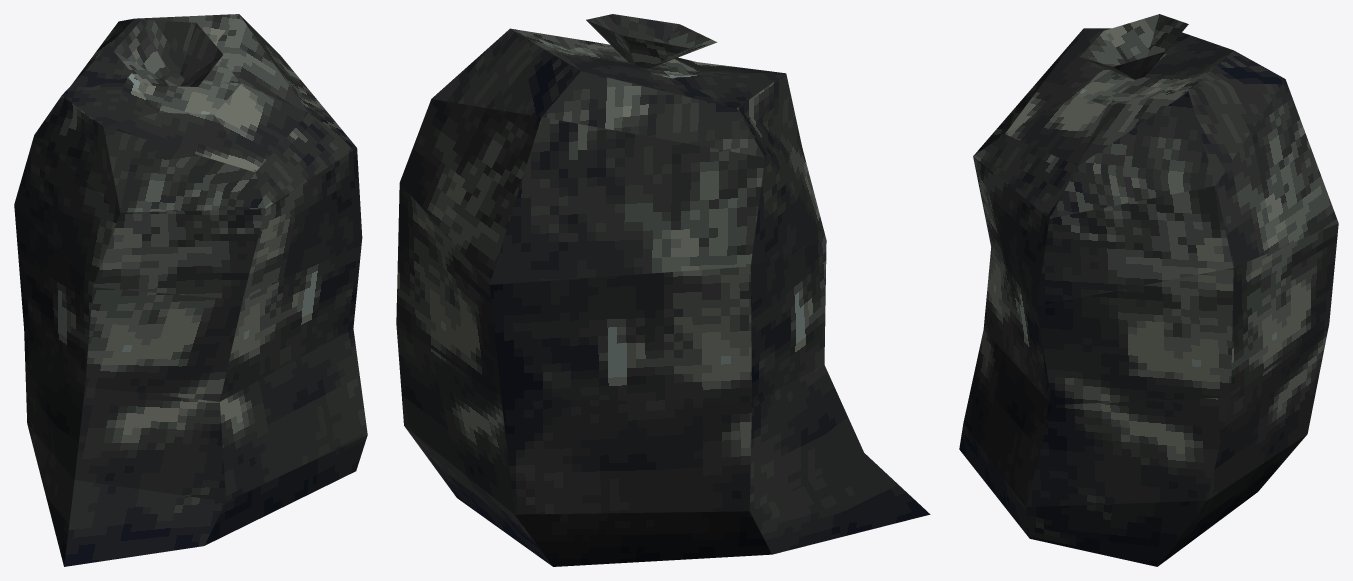
Rendered from trashbag_2.glb.
3 views of the same model, side by side, from view 1: azimuth 30°, elevation 25°; view 2: azimuth 150°, elevation 25°; view 3: azimuth 270°, elevation 25° (orthographic). The views are drawn at different scales.
Parts seen in each view (by area): view 1: trashbag_2; view 2: trashbag_2; view 3: trashbag_2.
Part boxes in pixels (x1,y1,x2,y2): trashbag_2: [14, 14, 367, 566]; trashbag_2: [396, 14, 930, 566]; trashbag_2: [959, 14, 1338, 566].
Bounding box in the file's own units: 0.8555 × 1.04 × 0.7744.
1 material, 1 textured.
